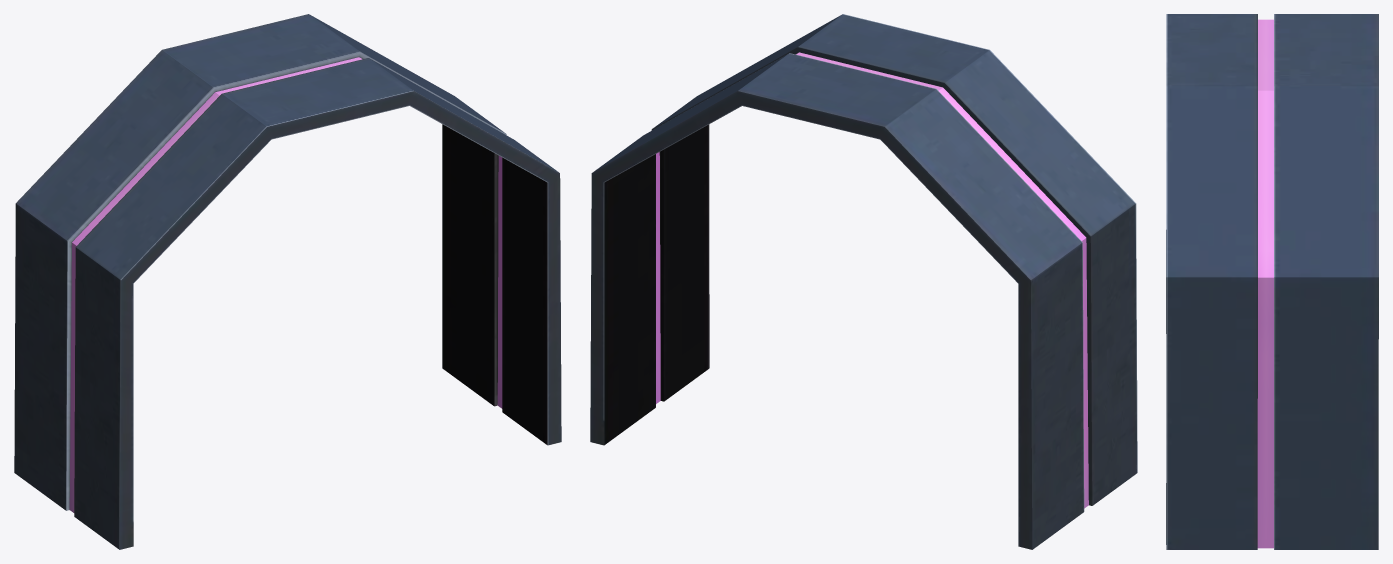
The model's file is entrance-door02-art.glb.
The picture shows the model from 3 angles, left to right: view 1: azimuth 30°, elevation 25°; view 2: azimuth 150°, elevation 25°; view 3: azimuth 270°, elevation 25°; orthographic projection.
Visible parts, largest first — view 1: EntranceDoor02_Art; view 2: EntranceDoor02_Art; view 3: EntranceDoor02_Art.
Part boxes in pixels (x1,y1,x2,y2): EntranceDoor02_Art: [14, 14, 561, 549]; EntranceDoor02_Art: [590, 14, 1137, 549]; EntranceDoor02_Art: [1166, 14, 1378, 549].
Bounding box in the file's own units: 5.71 × 4.78 × 2.36.
Materials: 1 (1 with a texture image).
